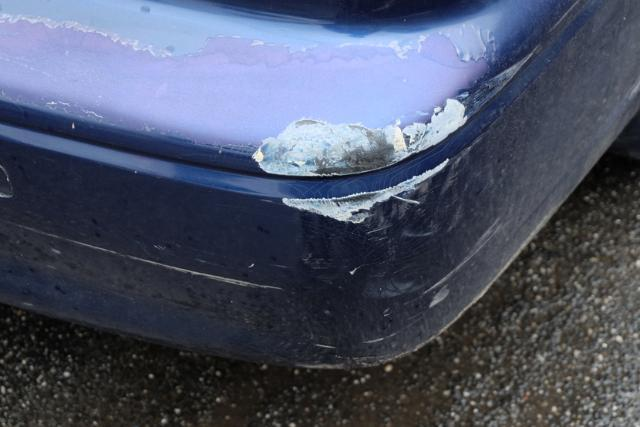Bumper: (1, 55, 530, 297)
